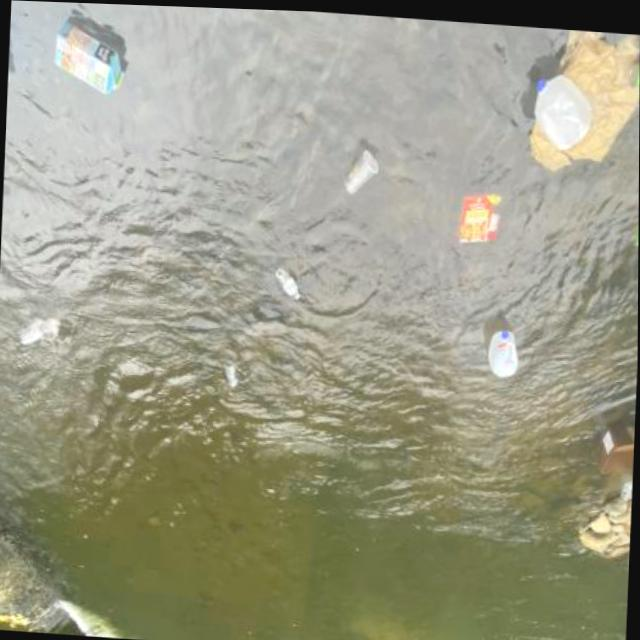Can-Metal: (622, 53, 640, 88)
Cardboard: (49, 13, 131, 97), (453, 182, 508, 247), (591, 420, 635, 474), (631, 217, 639, 252)
Paper: (522, 22, 640, 175)
Plastic: (526, 63, 597, 155), (341, 140, 386, 199), (483, 321, 525, 379), (268, 256, 307, 303), (14, 310, 57, 351), (216, 344, 246, 394), (618, 474, 633, 500)
